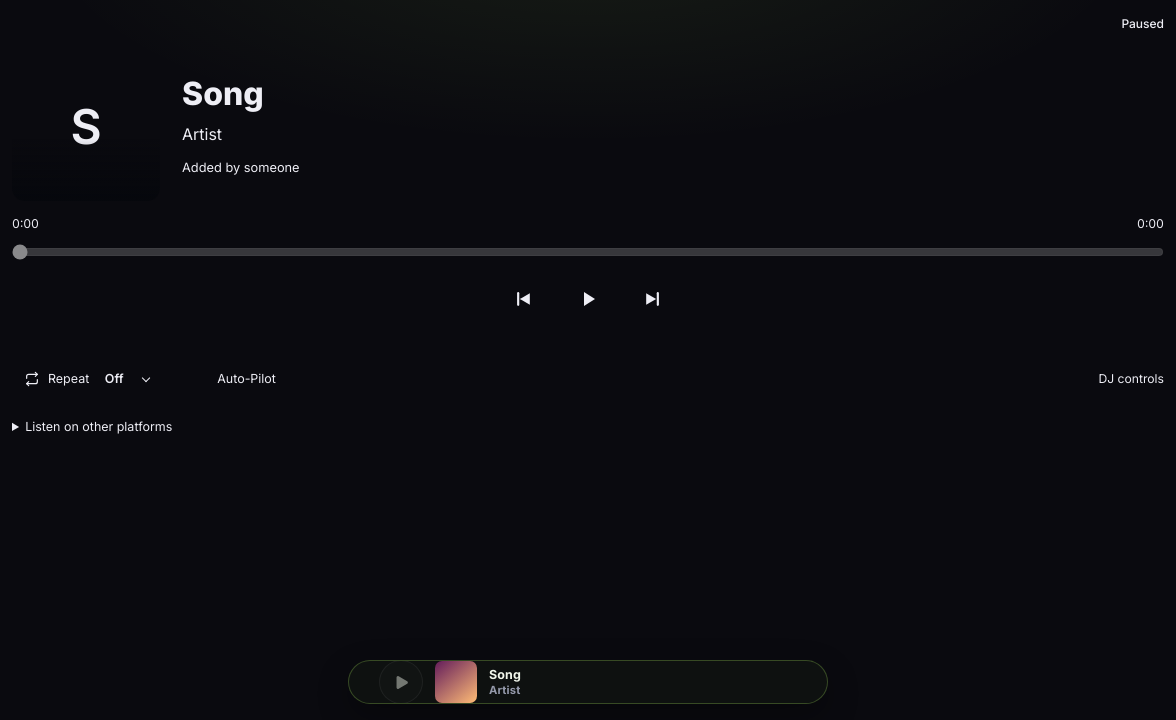
Test: NowPlaying shared playback › keeps the repeat control in its next state while the update is pending
Click the button with aria-label "Repeat: Off".
click(88, 379)  # box [12, 359, 163, 399]
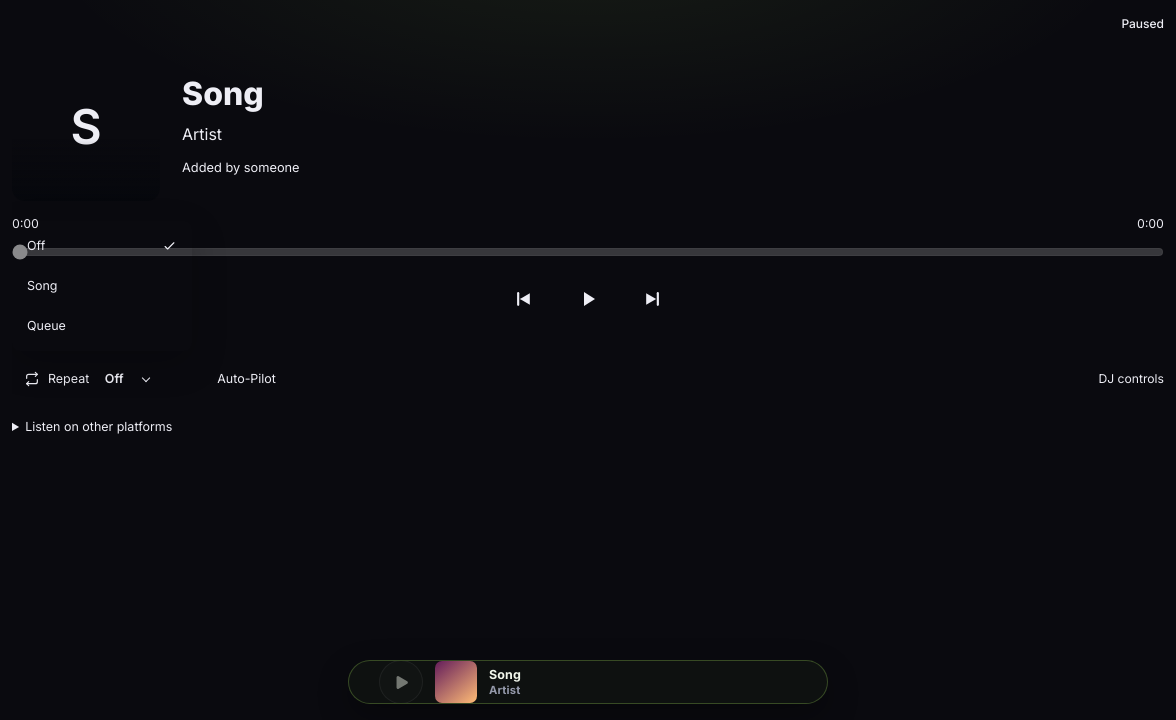
Click the menu item "Song".
click(102, 286)  # box [17, 266, 187, 306]
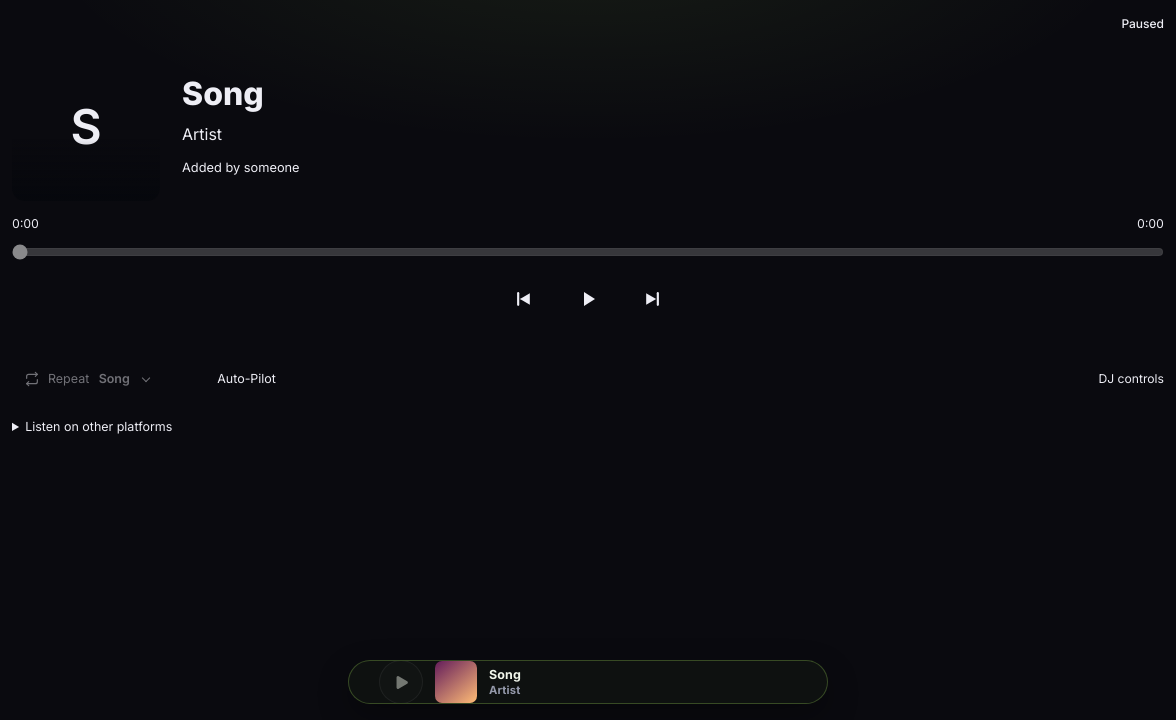
Result: the button with aria-label "Repeat: Song" is disabled at [12, 359, 163, 399]
